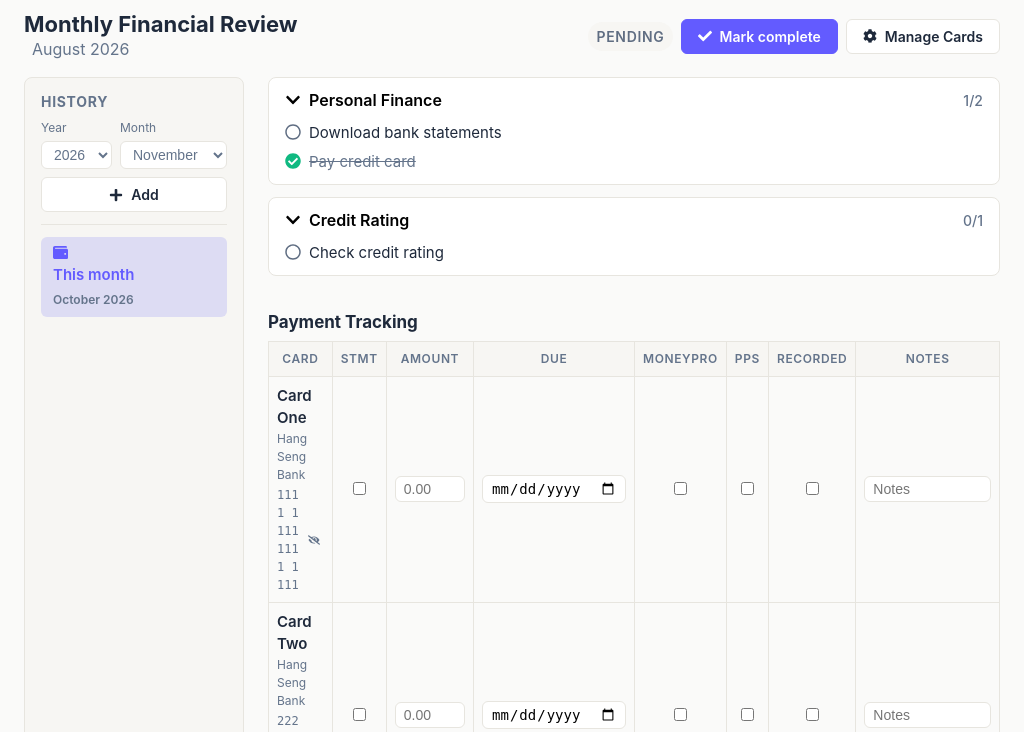
it: MonthlyReview › hides cards independently ??masking one card does not affect others
The image size is (1024, 732).
Expected: the text "Card One" is shown, [277,386,312,427]
Expected: the text "1111 1111 1111 1111" is shown, [277,486,300,594]
Note: Hide the first card only
Click the button named "Hide account number" below "1111 1111 1111 1111".
click(314, 540)  # box [304,532,324,548]
(page scrolled)
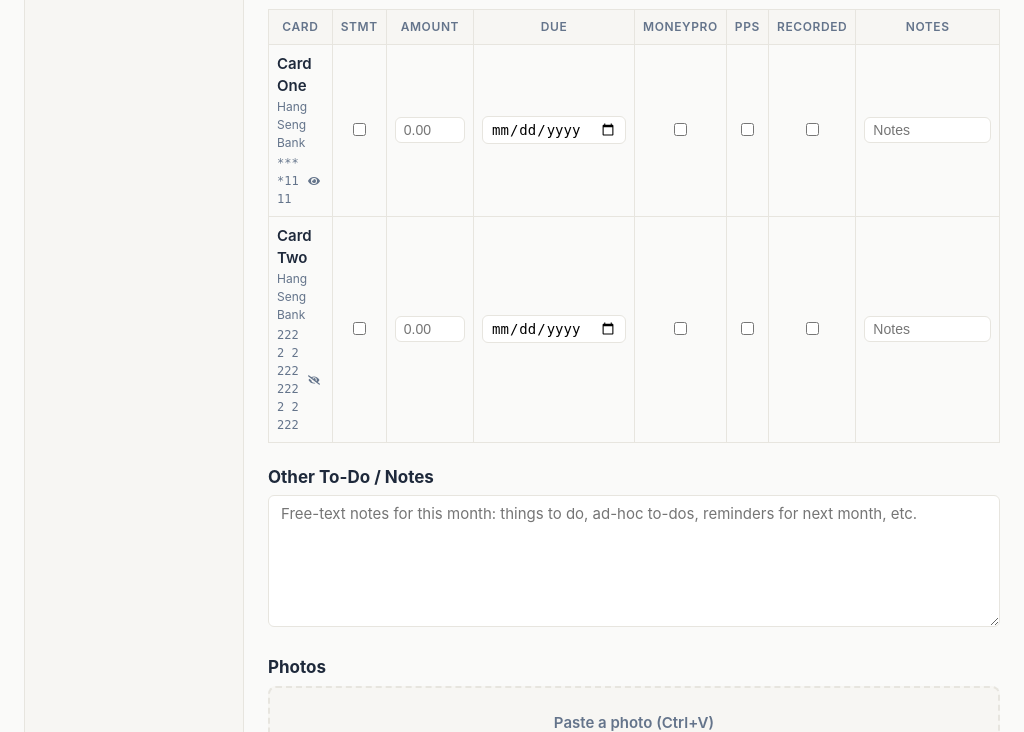
Expected: the text "2222 2222 2222 2222" is shown, [277,326,300,434]
Expected: the text "****1111" is shown, [277,154,300,208]
